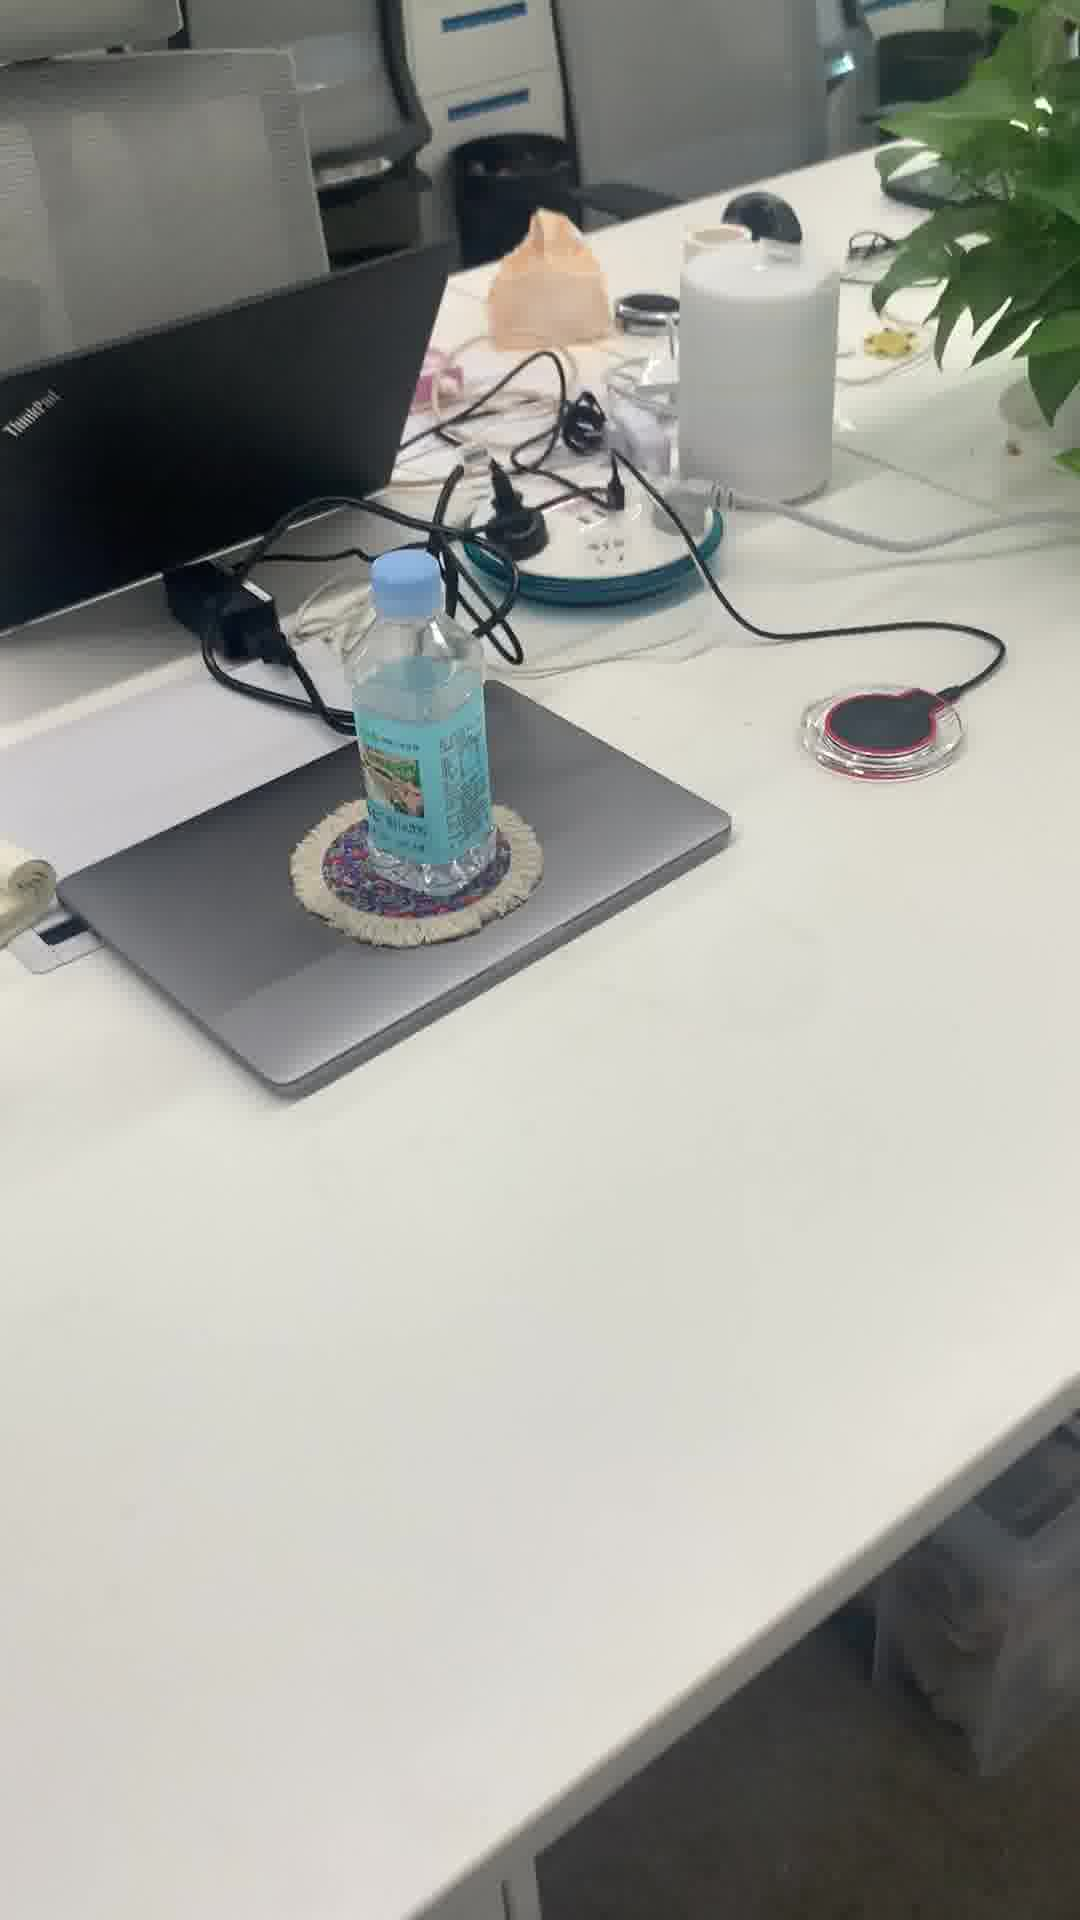水瓶: (348, 551, 498, 889)
